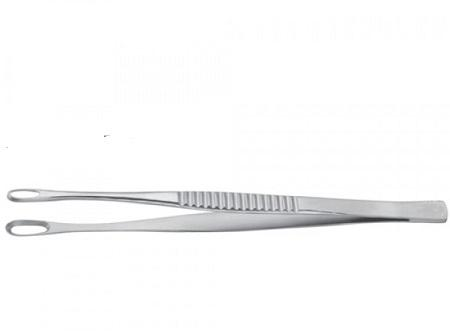Eye Intestinal Forceps: (0, 176, 450, 246)
